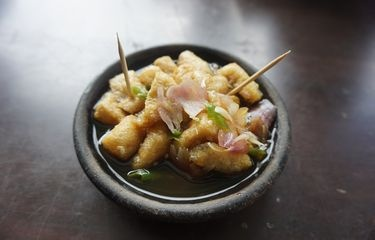tahu_gejrot: (93, 52, 276, 200)
